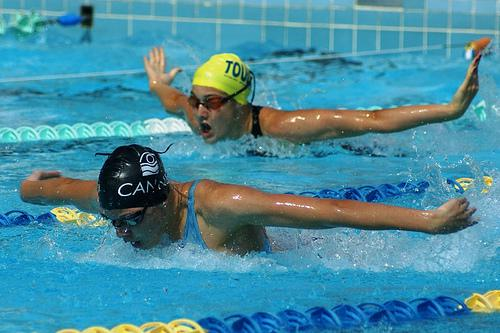swimmer: (20, 142, 480, 262), (142, 49, 483, 145)
